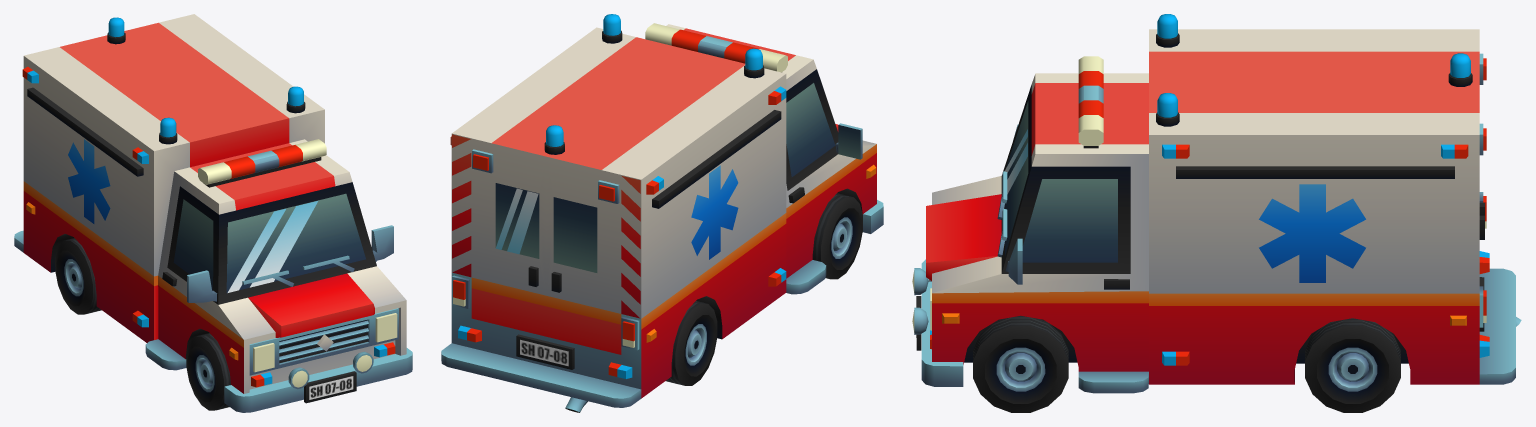
File: ambulance.glb
The picture shows the model from 3 angles, left to right: view 1: azimuth 30°, elevation 25°; view 2: azimuth 150°, elevation 25°; view 3: azimuth 270°, elevation 25°; orthographic projection. The views are drawn at different scales.
Parts seen in each view (by area): view 1: body; view 2: body; view 3: body.
Part boxes in pixels (box(x1,y1,x2,y2)): body: box(14, 14, 412, 412); body: box(441, 14, 883, 412); body: box(912, 14, 1521, 412).
Bounding box in the file's own units: 1.03 × 1.15 × 2.09.
Materials: 2 (2 with a texture image).
